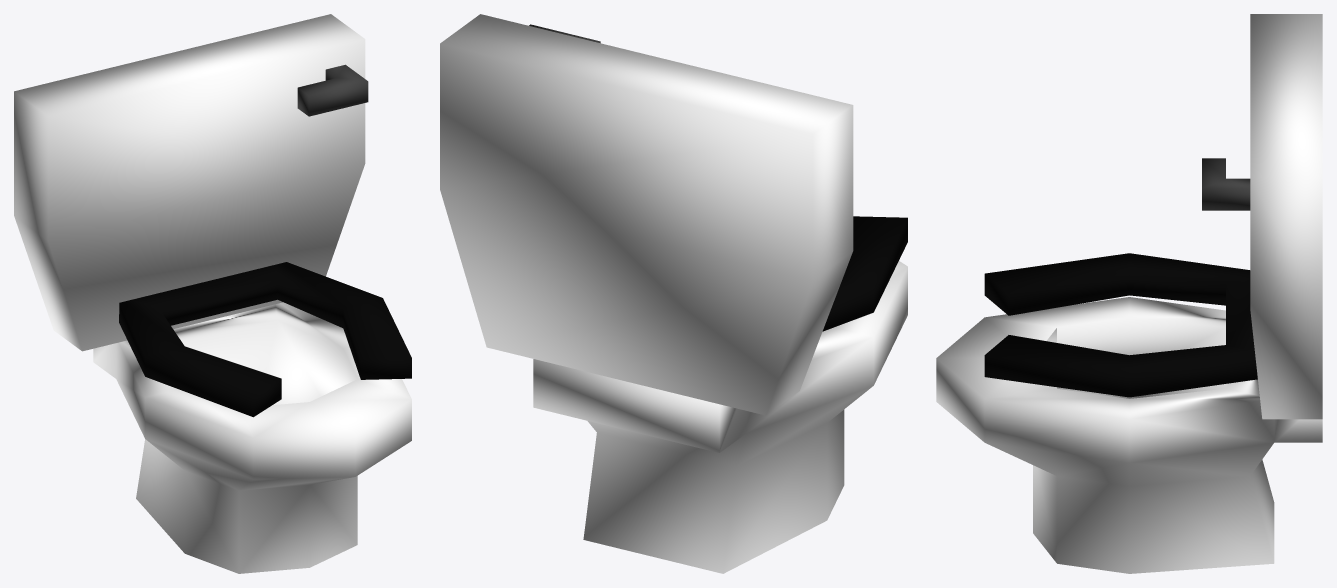
Rendered from Toilet.fbx.
The picture shows the model from 3 angles, left to right: view 1: azimuth 30°, elevation 25°; view 2: azimuth 150°, elevation 25°; view 3: azimuth 270°, elevation 25°; orthographic projection. The views are drawn at different scales.
Visible parts, largest first — view 1: Cube; view 2: Cube; view 3: Cube.
Part boxes in pixels (<box>): Cube: <box>14,14,411,573</box>; Cube: <box>440,14,907,573</box>; Cube: <box>936,14,1322,573</box>.
Size of the model in its own units: 1 by 1.25 by 1.
1 material, 1 textured.
